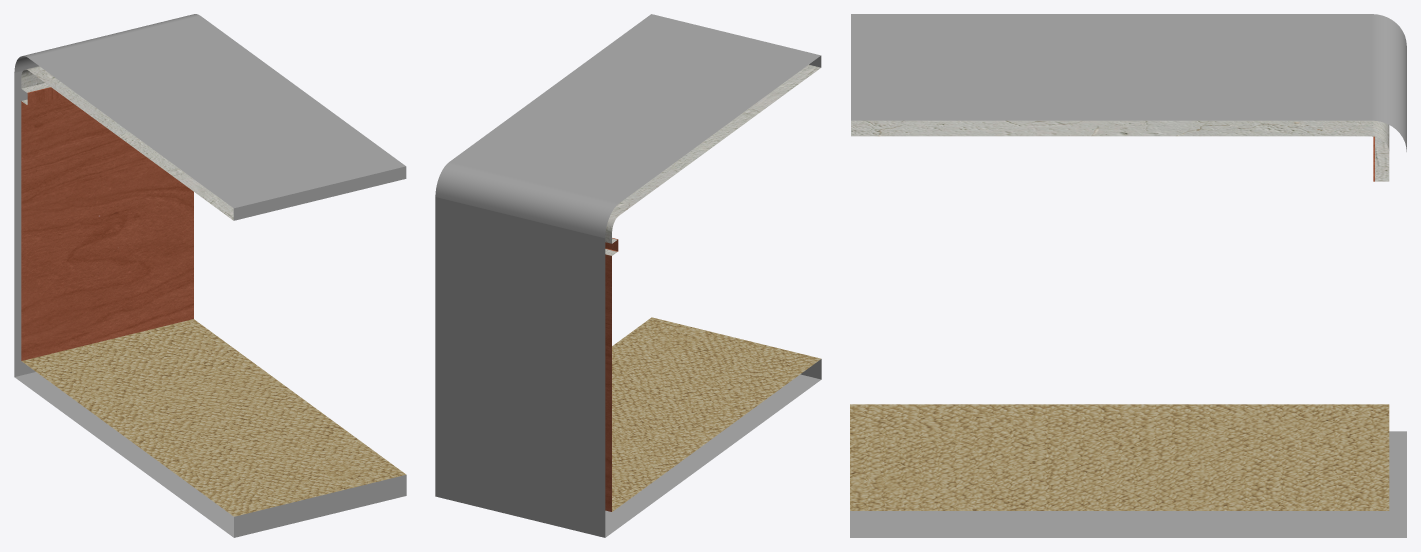
File: interiorMid.fbx
3 views of the same model, side by side, from view 1: azimuth 30°, elevation 25°; view 2: azimuth 150°, elevation 25°; view 3: azimuth 270°, elevation 25° (orthographic). The views are drawn at different scales.
Visible parts, largest first — view 1: interiorMid; view 2: interiorMid; view 3: interiorMid.
Part boxes in pixels (left/top/right/bottom): interiorMid: left=14, top=14, right=406, bottom=537; interiorMid: left=435, top=14, right=821, bottom=537; interiorMid: left=850, top=14, right=1406, bottom=537.
Bounding box in the file's own units: 3.49 × 6.37 × 7.71.
5 materials, 3 textured.
